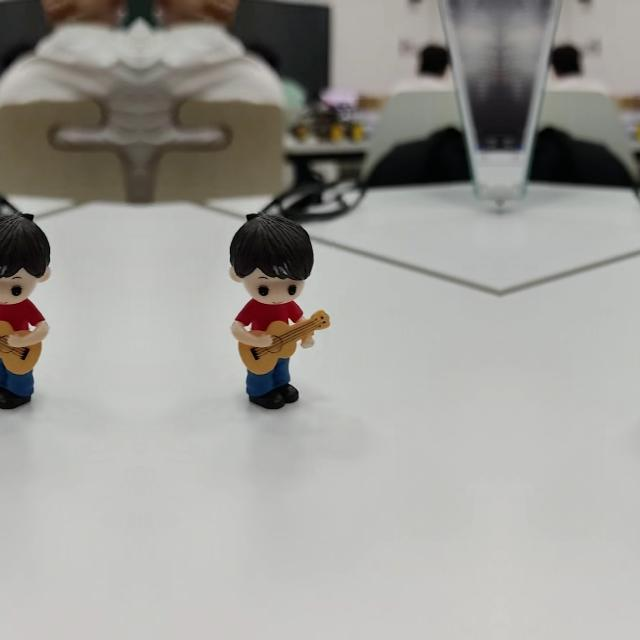man cloth: (234, 298, 306, 330), (0, 298, 45, 330)
man head: (228, 208, 320, 306), (0, 208, 52, 305)
trousers: (244, 356, 300, 409), (0, 356, 36, 409)
